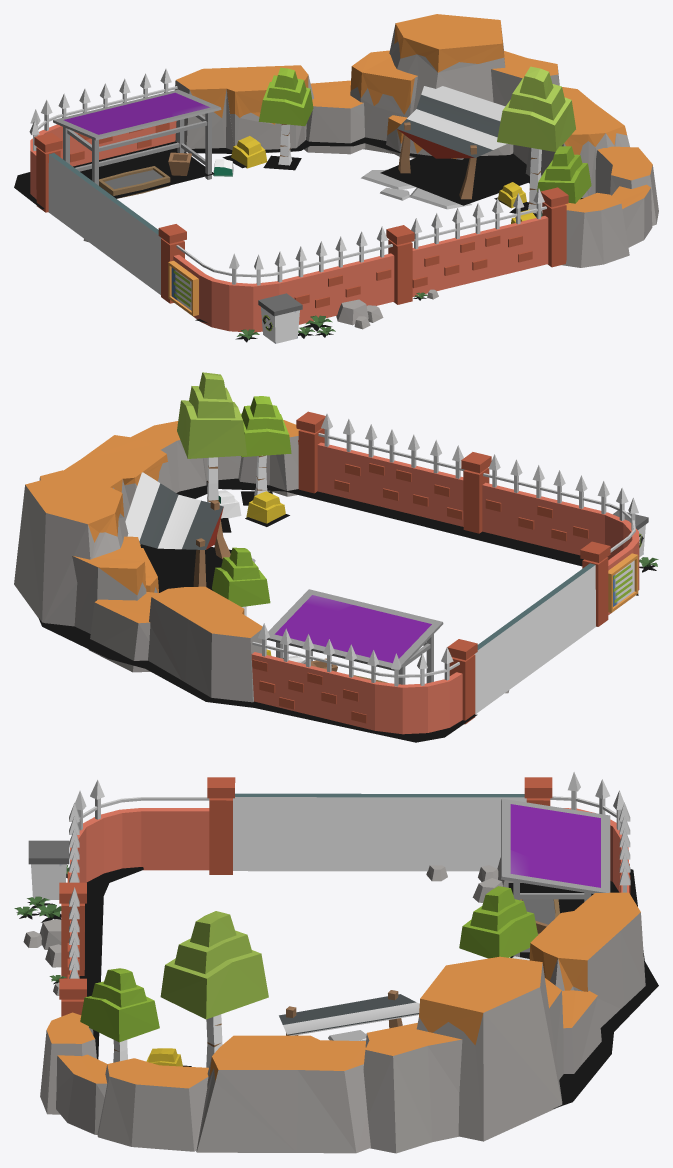
Rendered from xweilan_1002_5.FBX.
3 views of the same model, one above another, from view 1: azimuth 30°, elevation 25°; view 2: azimuth 150°, elevation 25°; view 3: azimuth 270°, elevation 25° (orthographic). The views are drawn at different scales.
Parts seen in each view (by area): view 1: xweilan_1002_5; view 2: xweilan_1002_5; view 3: xweilan_1002_5.
Boxes of the visible parts, box(x1,y1,x2,y2) form: xweilan_1002_5: box(14, 14, 658, 343); xweilan_1002_5: box(14, 372, 658, 742); xweilan_1002_5: box(14, 772, 658, 1153).
Size of the model in its own units: 4799 by 1464 by 4472.
